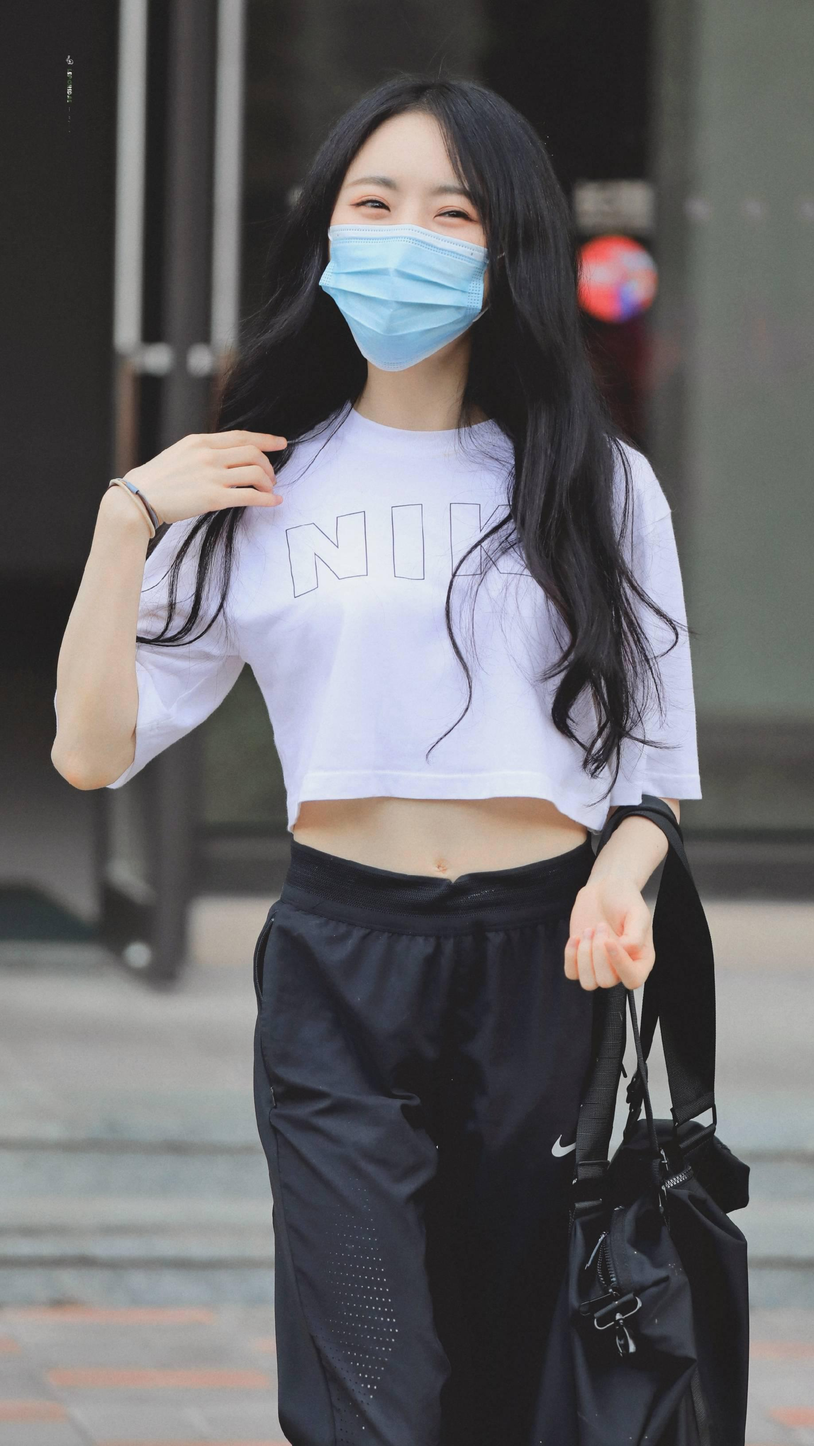OK: (322, 146, 495, 369)
